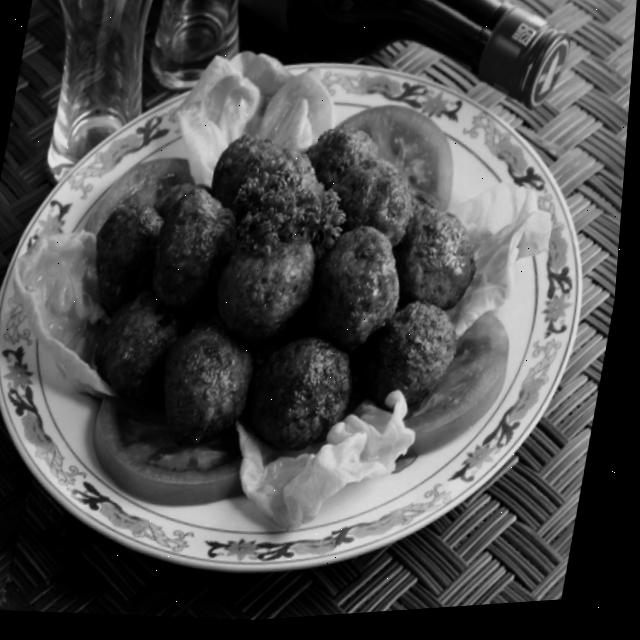猪肉菜式: (0, 12, 587, 596)
